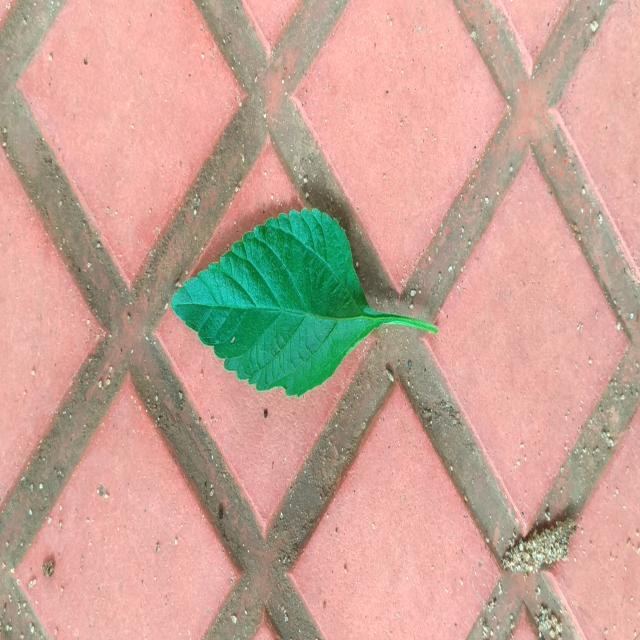Lantana: (171, 209, 438, 396)
